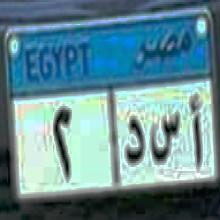2: (51, 110, 80, 180)
alif: (187, 86, 205, 171)
daal: (124, 105, 145, 169)
seen: (148, 102, 182, 170)
